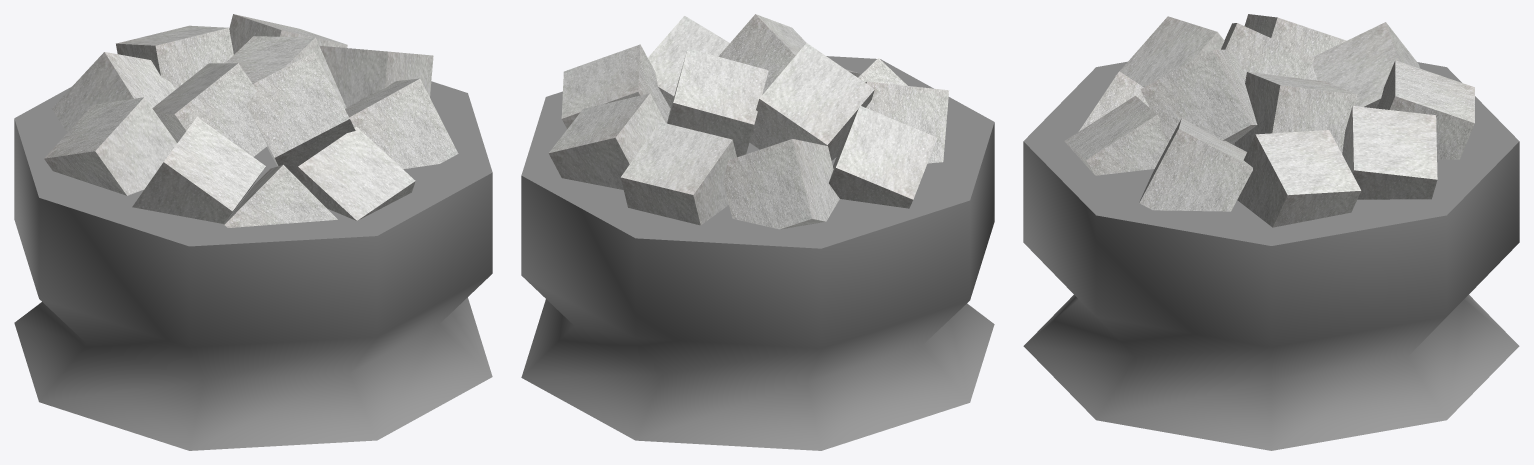
The model's file is SugarBowl.FBX.
3 views of the same model, side by side, from view 1: azimuth 30°, elevation 25°; view 2: azimuth 150°, elevation 25°; view 3: azimuth 270°, elevation 25° (orthographic).
Parts seen in each view (by area): view 1: Cylinder001, Box009, Box008, Box003, Box006, Box005, Box012, Box010, Box001, Box004, Box007, Box011 (+1 smaller); view 2: Cylinder001, Box001, Box012, Box010, Box009, Box011, Box002, Box004, Box008, Box003, Box005, Box007; view 3: Cylinder001, Box004, Box002, Box003, Box005, Box011, Box001, Box006, Box010, Box008, Box012, Box009 (+1 smaller).
Part boxes in pixels (x1=…): Cylinder001: x1=14, y1=81, x2=492, y2=450; Box009: x1=44, y1=97, x2=177, y2=195; Box008: x1=132, y1=117, x2=265, y2=223; Box003: x1=246, y1=52, x2=355, y2=175; Box006: x1=295, y1=127, x2=415, y2=220; Box005: x1=345, y1=78, x2=458, y2=169; Box012: x1=152, y1=63, x2=267, y2=156; Box010: x1=51, y1=52, x2=175, y2=132; Box001: x1=116, y1=25, x2=233, y2=89; Box004: x1=319, y1=45, x2=433, y2=107; Box007: x1=223, y1=164, x2=337, y2=227; Box011: x1=225, y1=36, x2=346, y2=108; Cylinder001: x1=521, y1=56, x2=994, y2=450; Box001: x1=620, y1=122, x2=736, y2=225; Box012: x1=749, y1=43, x2=874, y2=160; Box010: x1=723, y1=139, x2=839, y2=229; Box009: x1=829, y1=105, x2=937, y2=208; Box011: x1=667, y1=48, x2=768, y2=157; Box002: x1=548, y1=93, x2=665, y2=189; Box004: x1=561, y1=44, x2=670, y2=128; Box008: x1=865, y1=81, x2=949, y2=163; Box003: x1=718, y1=14, x2=806, y2=94; Box005: x1=648, y1=15, x2=729, y2=108; Box007: x1=858, y1=58, x2=907, y2=85; Cylinder001: x1=1023, y1=61, x2=1519, y2=450; Box004: x1=1237, y1=130, x2=1361, y2=227; Box002: x1=1342, y1=106, x2=1437, y2=199; Box003: x1=1140, y1=49, x2=1257, y2=145; Box005: x1=1139, y1=118, x2=1252, y2=211; Box011: x1=1234, y1=72, x2=1357, y2=153; Box001: x1=1376, y1=60, x2=1474, y2=159; Box006: x1=1064, y1=96, x2=1167, y2=175; Box010: x1=1312, y1=22, x2=1420, y2=108; Box008: x1=1114, y1=16, x2=1224, y2=87; Box012: x1=1221, y1=23, x2=1314, y2=79; Box009: x1=1244, y1=14, x2=1346, y2=80.
Bounding box in the file's own units: 23.33 × 16.19 × 23.33.
2 materials, 1 textured.
